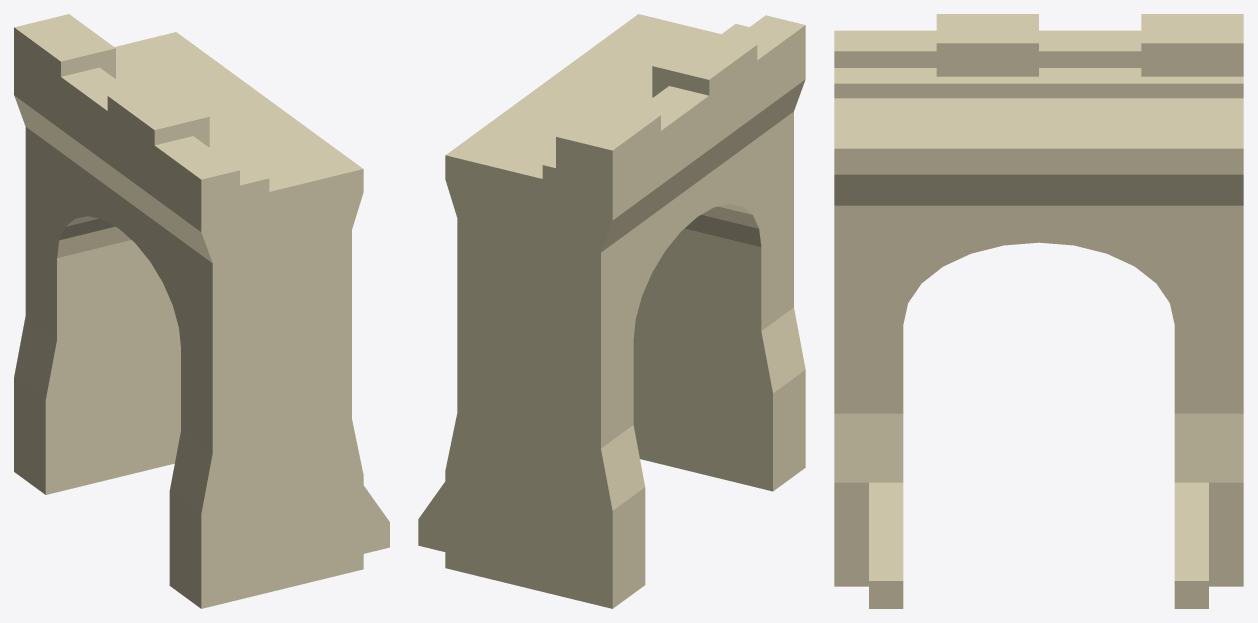
The model's file is wallnarrowgate.glb.
3 renders of one model, left to right at view 1: azimuth 30°, elevation 25°; view 2: azimuth 150°, elevation 25°; view 3: azimuth 270°, elevation 25°, orthographic. The views are drawn at different scales.
Parts seen in each view (by area): view 1: wallNarrowGate; view 2: wallNarrowGate; view 3: wallNarrowGate.
Boxes of the visible parts, <box> form: wallNarrowGate: <box>14,14,389,608</box>; wallNarrowGate: <box>418,14,805,608</box>; wallNarrowGate: <box>834,14,1243,608</box>.
Size of the model in its own units: 6.3 by 13.1 by 10.
